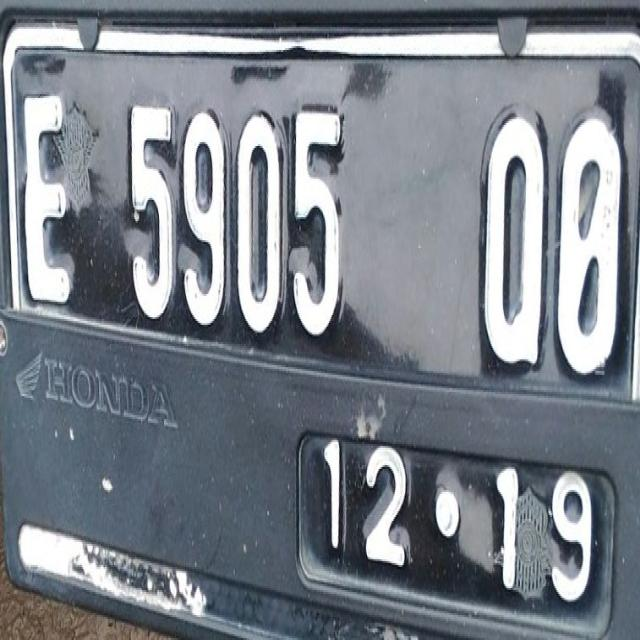plate: (7, 19, 636, 638)
